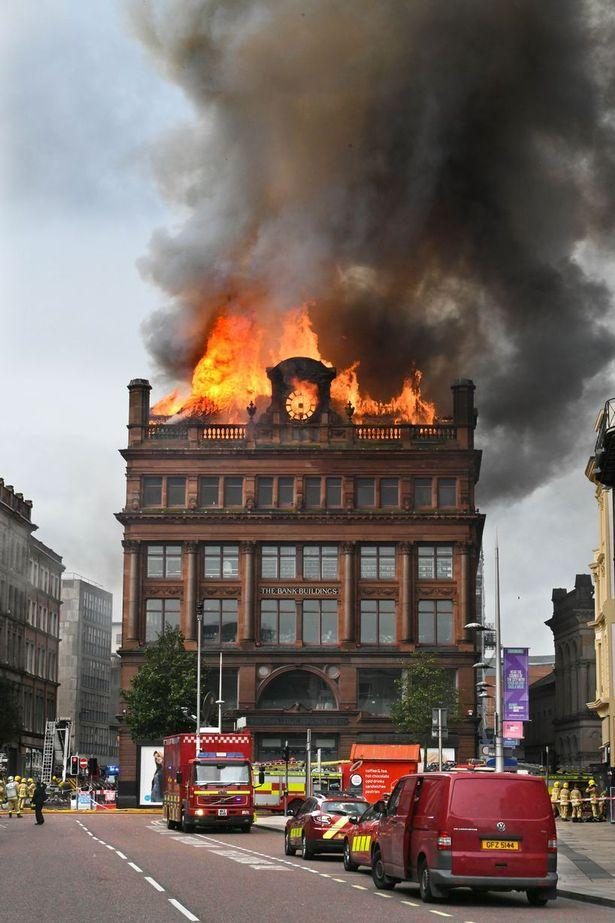fire: (182, 315, 330, 400)
smoke: (197, 3, 593, 307)
